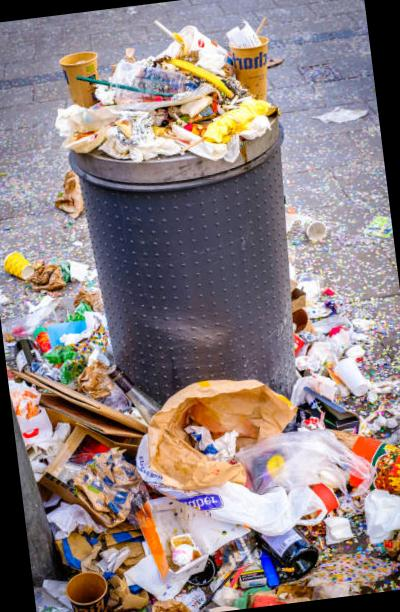trash: (5, 303, 400, 612), (38, 3, 322, 176), (85, 336, 295, 508), (266, 255, 378, 425), (176, 422, 376, 517), (287, 361, 400, 508), (1, 308, 118, 417), (51, 506, 157, 612), (264, 503, 370, 603), (136, 512, 228, 610), (0, 223, 106, 305), (21, 286, 125, 364), (264, 173, 343, 262), (233, 494, 285, 608), (34, 451, 116, 522), (352, 499, 400, 590), (34, 159, 90, 218), (307, 83, 366, 134), (27, 538, 65, 612), (352, 203, 395, 257)
trash_can_overflow: (0, 3, 400, 612)
